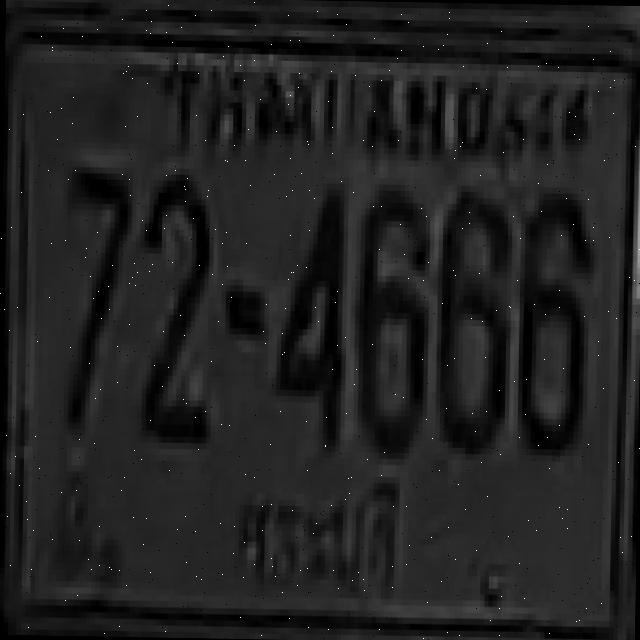2: (136, 174, 210, 443)
4: (270, 182, 344, 446)
6: (512, 186, 590, 450), (430, 185, 508, 448), (352, 184, 426, 452)
7: (61, 163, 130, 426)
SaraBuri: (222, 464, 422, 614)
